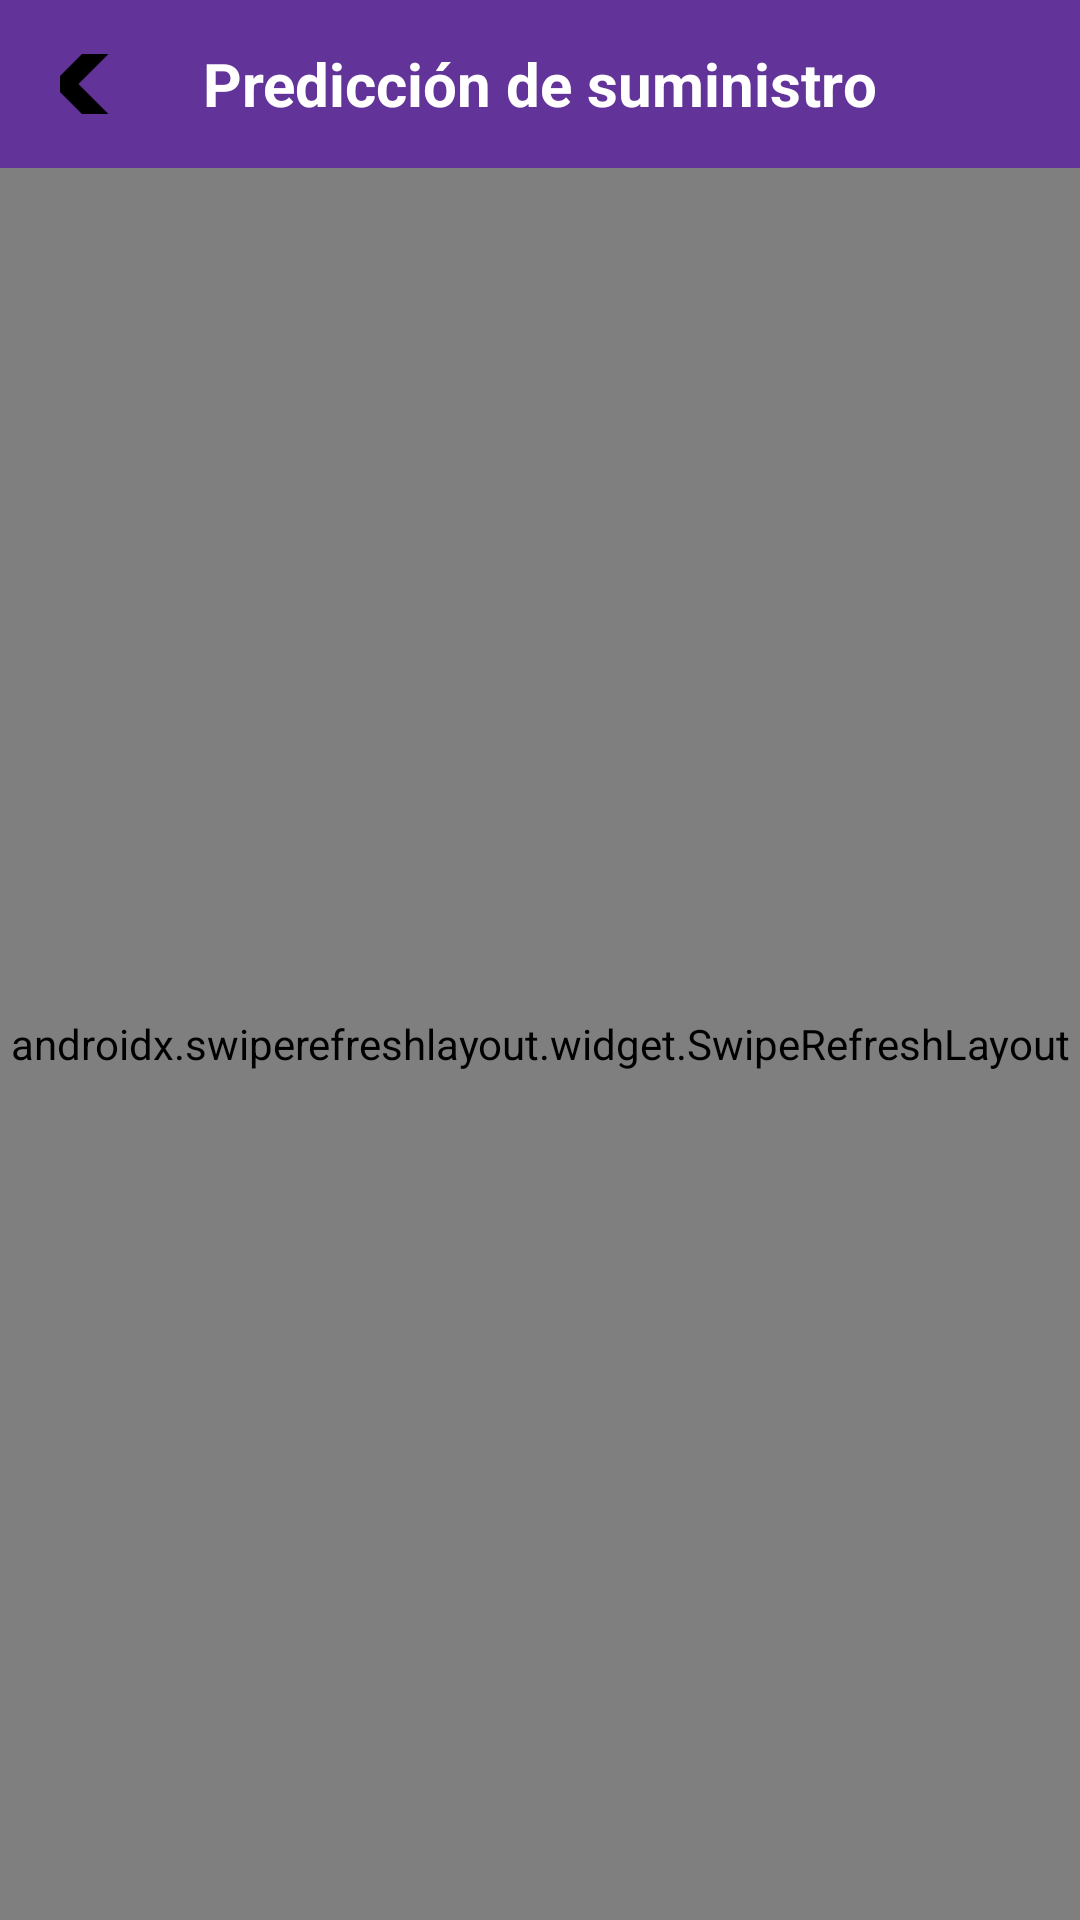

Screen size 1080x1920. Icon name, then its box in pixels as (x1, y1, x2, y2):
Volver: (60, 54, 108, 114)
